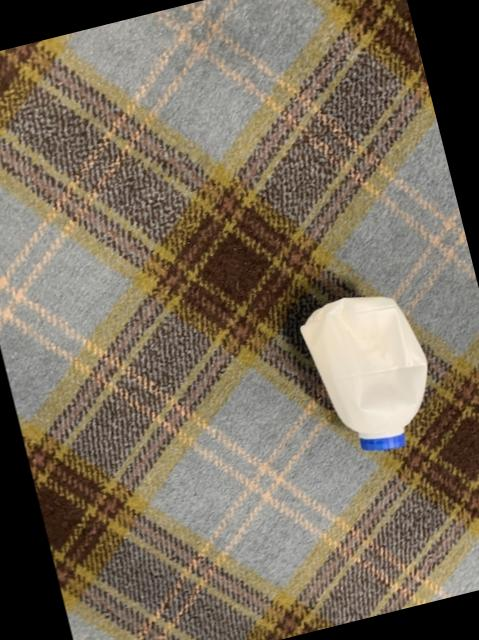plastic: (301, 295, 427, 448)
